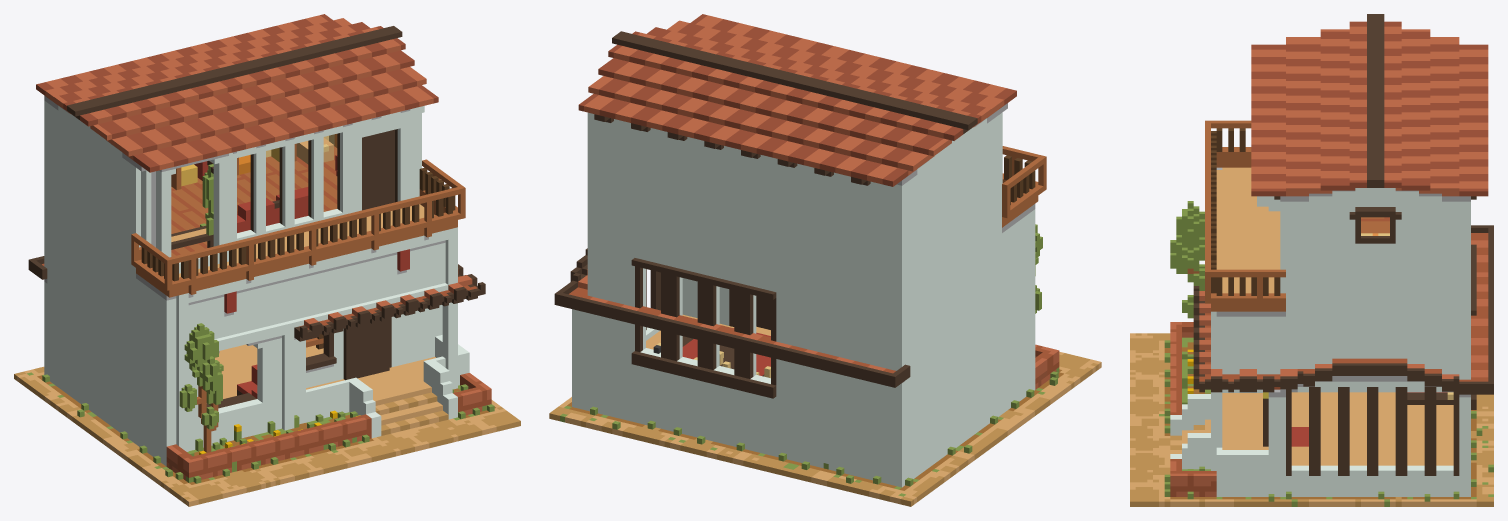
Rendered from house2.obj.
3 views of the same model, side by side, from view 1: azimuth 30°, elevation 25°; view 2: azimuth 150°, elevation 25°; view 3: azimuth 270°, elevation 25° (orthographic). The views are drawn at different scales.
Size of the model in its own units: 69 by 62 by 63.
